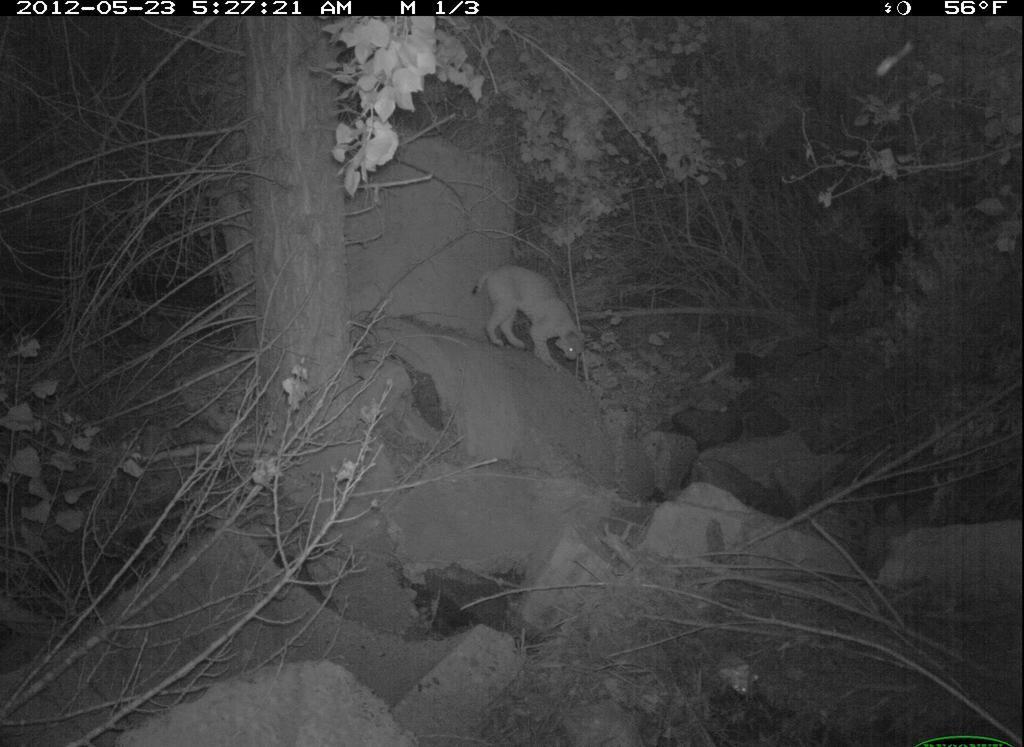bobcat: (440, 246, 619, 388)
